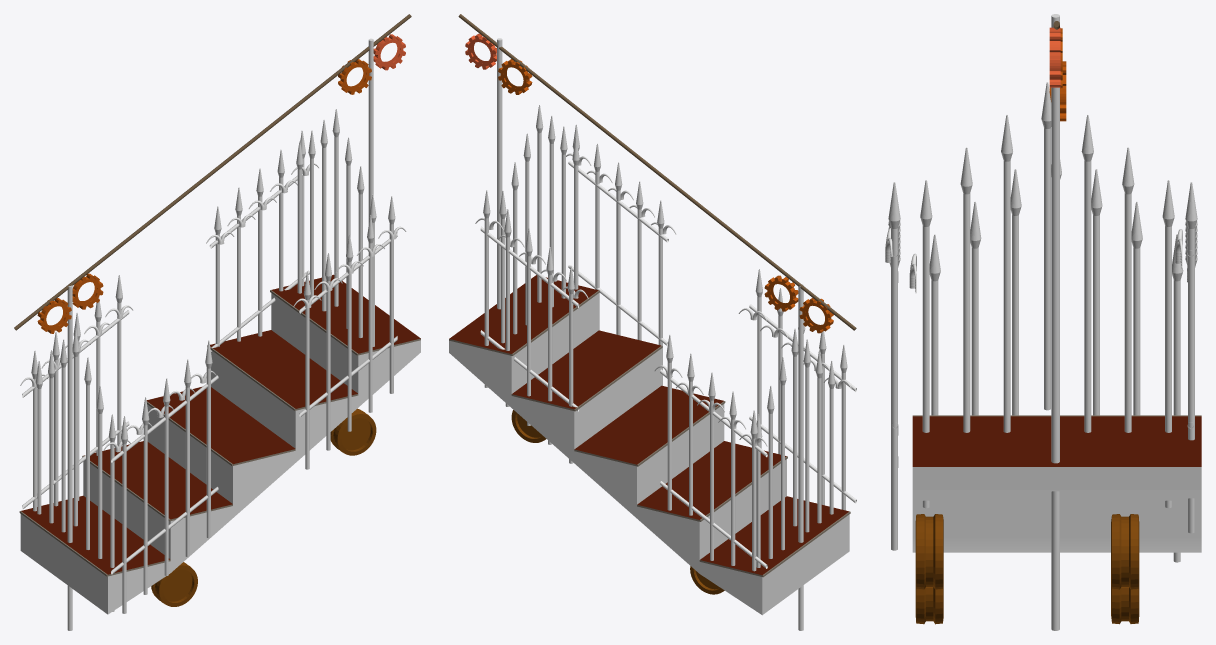
The model's file is Fence7.fbx.
The picture shows the model from 3 angles, left to right: view 1: azimuth 30°, elevation 25°; view 2: azimuth 150°, elevation 25°; view 3: azimuth 270°, elevation 25°; orthographic projection. The views are drawn at different scales.
Visible parts, largest first — view 1: Stair, Cylinder.015, Cylinder.001, Cylinder, Cylinder.016, Cylinder.017, Cylinder.003, Cylinder.012, Cylinder.018, Cylinder.019, Gear, Gear.001 (+4 smaller); view 2: Stair, Cylinder.001, Cylinder.015, Cylinder, Cylinder.016, Cylinder.003, Cylinder.012, Cylinder.019, Cylinder.018, Cylinder.017, Gear.002, Gear.003 (+2 smaller); view 3: Stair, Cylinder.016, Cylinder, Cylinder.017, Cylinder.001, Cylinder.003, Gear.
Part boxes in pixels (<box>): Stair: <box>19,274,420,614</box>; Cylinder.015: <box>31,275,212,613</box>; Cylinder.001: <box>214,130,395,469</box>; Cylinder: <box>35,328,115,611</box>; Cylinder.016: <box>296,109,376,346</box>; Cylinder.017: <box>151,408,376,606</box>; Cylinder.003: <box>67,38,373,630</box>; Cylinder.012: <box>14,14,411,330</box>; Cylinder.018: <box>22,310,218,574</box>; Cylinder.019: <box>209,169,397,417</box>; Gear: <box>373,34,405,70</box>; Gear.001: <box>37,298,71,333</box>; Stair: <box>449,275,850,615</box>; Cylinder.001: <box>483,124,664,463</box>; Cylinder.015: <box>666,269,847,571</box>; Cylinder: <box>756,328,835,567</box>; Cylinder.016: <box>499,105,579,343</box>; Cylinder.003: <box>497,38,803,630</box>; Cylinder.012: <box>458,14,856,330</box>; Cylinder.019: <box>480,161,668,411</box>; Cylinder.018: <box>660,304,856,568</box>; Cylinder.017: <box>511,410,724,594</box>; Gear.002: <box>764,275,798,311</box>; Gear.003: <box>498,59,532,94</box>; Stair: <box>912,415,1201,552</box>; Cylinder.016: <box>920,82,1174,508</box>; Cylinder: <box>929,160,1183,562</box>; Cylinder.017: <box>915,514,1139,624</box>; Cylinder.001: <box>888,182,1197,533</box>; Cylinder.003: <box>1051,14,1059,630</box>; Gear: <box>1049,27,1060,87</box>.
Size of the model in its own units: 715 by 917 by 298.
